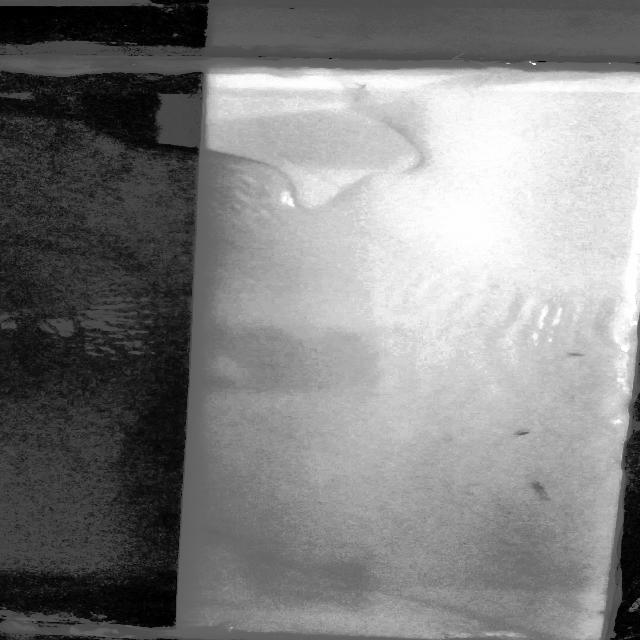shrimp: (558, 350, 600, 369), (507, 428, 548, 442), (532, 480, 560, 500), (204, 528, 245, 539)
